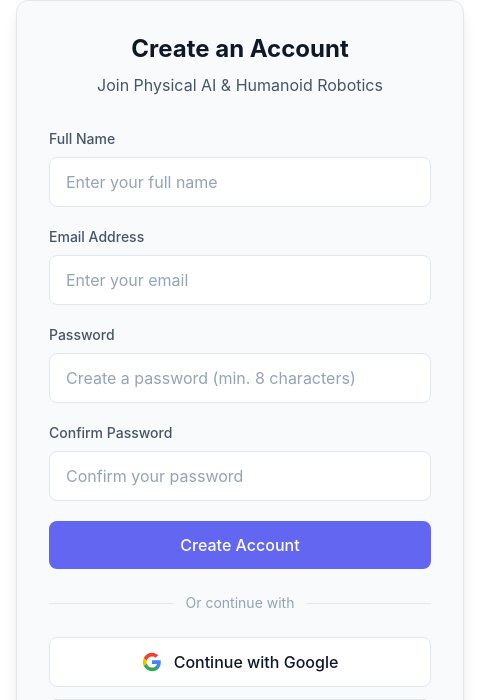
RegisterForm › Form Validation › should show error when name is empty
The image size is (481, 700).
Click the button "Create Account".
click(240, 545)  # box [49,521,431,569]
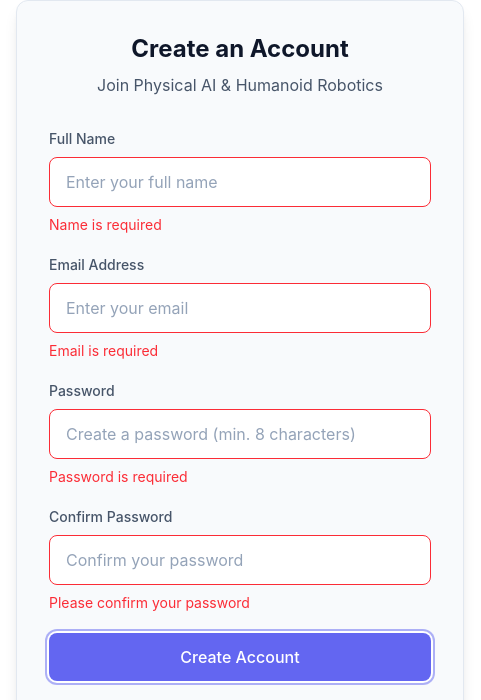
Expected: the text "Name is required" is shown, [49,216,162,233]
